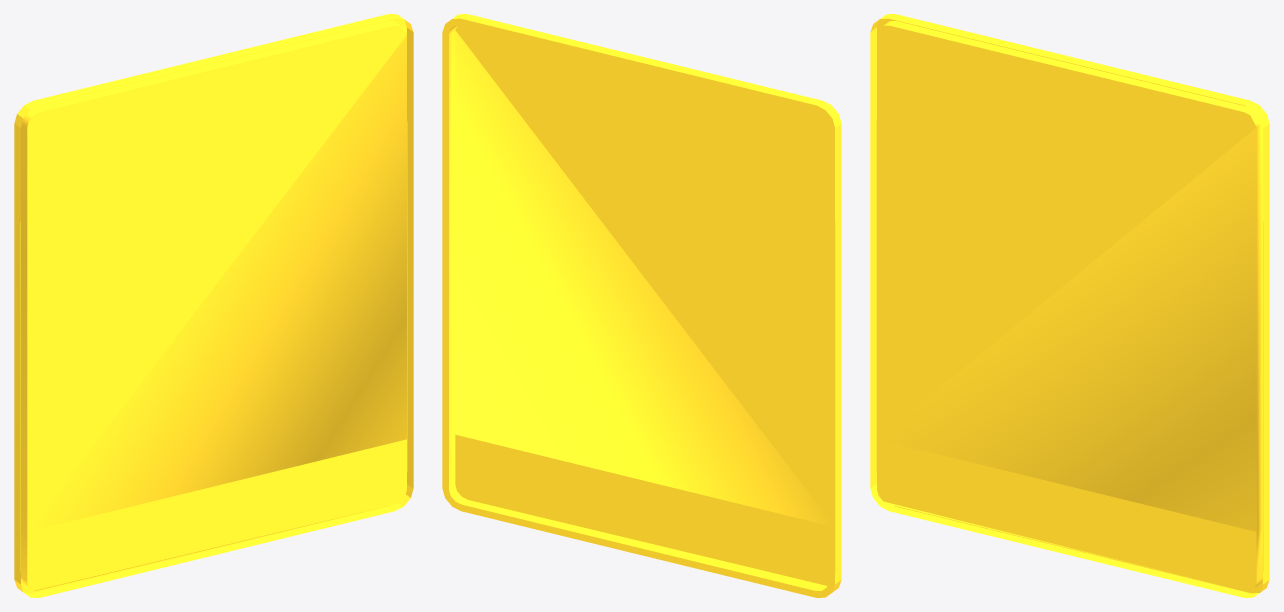
File: highlight_frame_full.glb
3 views of the same model, side by side, from view 1: azimuth 30°, elevation 25°; view 2: azimuth 150°, elevation 25°; view 3: azimuth 330°, elevation 25° (orthographic).
Visible parts, largest first — view 1: title_plane.004; view 2: title_plane.004; view 3: title_plane.004.
Part boxes in pixels (<box>): title_plane.004: <box>14,14,413,597</box>; title_plane.004: <box>442,14,841,597</box>; title_plane.004: <box>870,14,1269,597</box>.
Bounding box in the file's own units: 3.09 × 3.7 × 0.0875.
